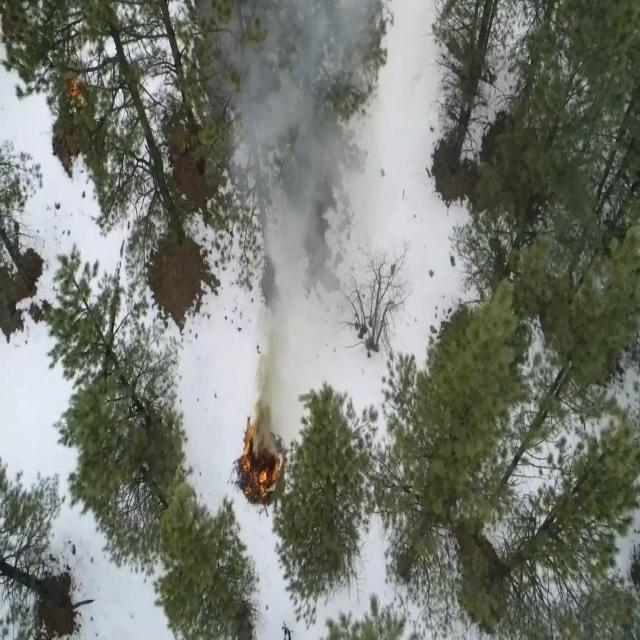Fire: (239, 417, 288, 496)
Smoke: (207, 2, 386, 410)
